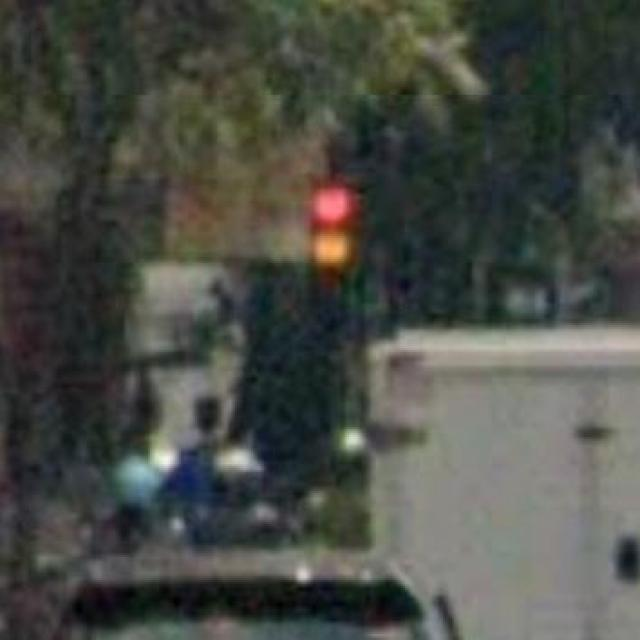yellow_light: (310, 178, 364, 317)
